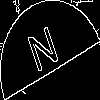N: (25, 25, 64, 82)
